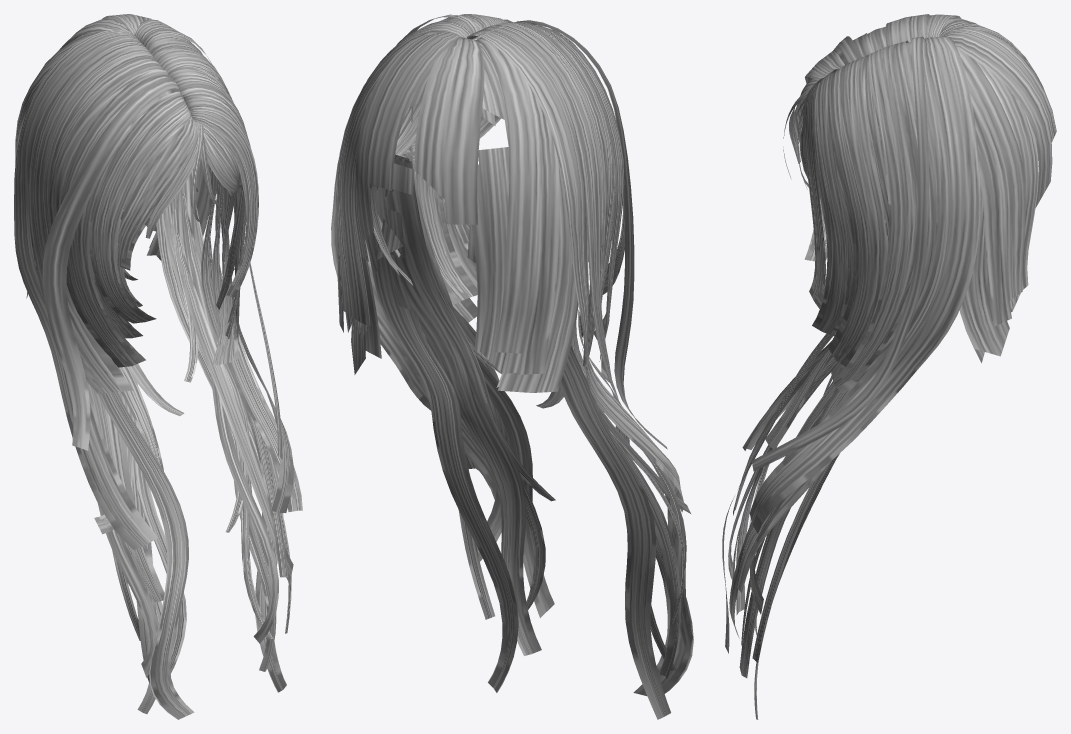
File: LongHair.glb
The picture shows the model from 3 angles, left to right: view 1: azimuth 30°, elevation 25°; view 2: azimuth 150°, elevation 25°; view 3: azimuth 270°, elevation 25°; orthographic projection. The views are drawn at different scales.
Visible parts, largest first — view 1: obj1; view 2: obj1; view 3: obj1.
Boxes of the visible parts, x1=… form: obj1: x1=14, y1=14, x2=302, y2=719; obj1: x1=331, y1=14, x2=693, y2=719; obj1: x1=722, y1=14, x2=1056, y2=719.
Bounding box in the file's own units: 1.4 × 3.84 × 1.77.
1 material, 1 textured.
